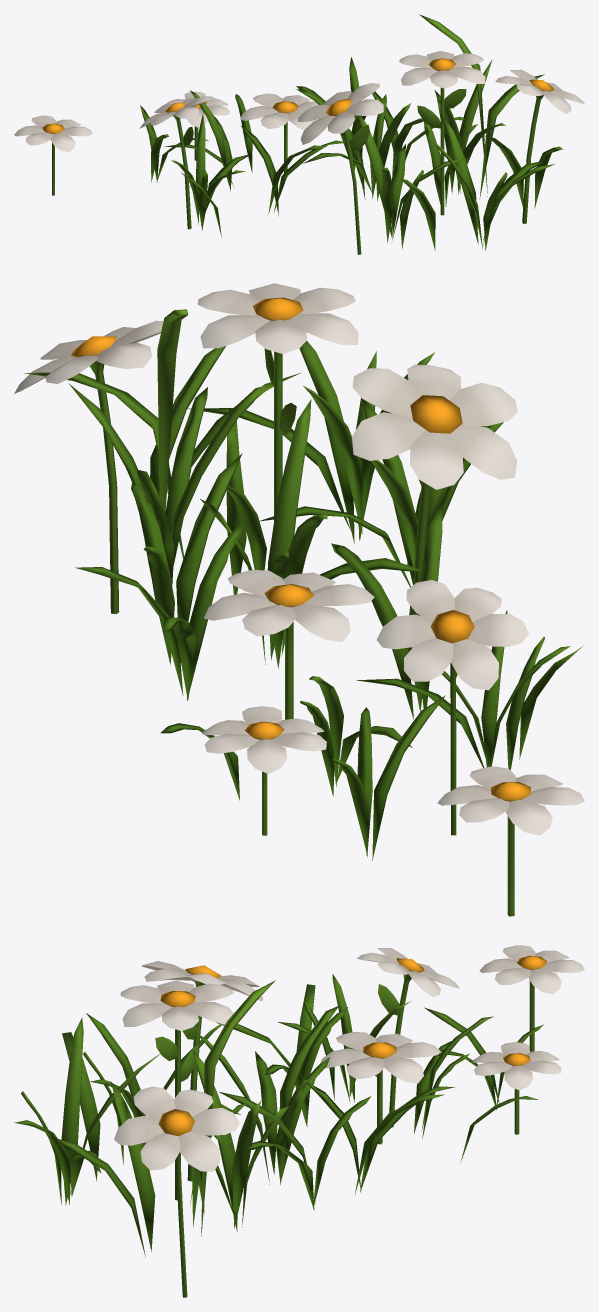
File: Prefab_Flower.fbx
3 views of the same model, one above another, from view 1: azimuth 30°, elevation 25°; view 2: azimuth 150°, elevation 25°; view 3: azimuth 270°, elevation 25° (orthographic). The views are drawn at different scales.
Visible parts, largest first — view 1: Flower_0024; view 2: Flower_0024; view 3: Flower_0024.
Boxes of the visible parts, left/top/right/bottom form: Flower_0024: left=14, top=14, right=584, bottom=254; Flower_0024: left=14, top=283, right=584, bottom=916; Flower_0024: left=14, top=945, right=584, bottom=1297.
Bounding box in the file's own units: 83.9 × 38.43 × 73.65.
